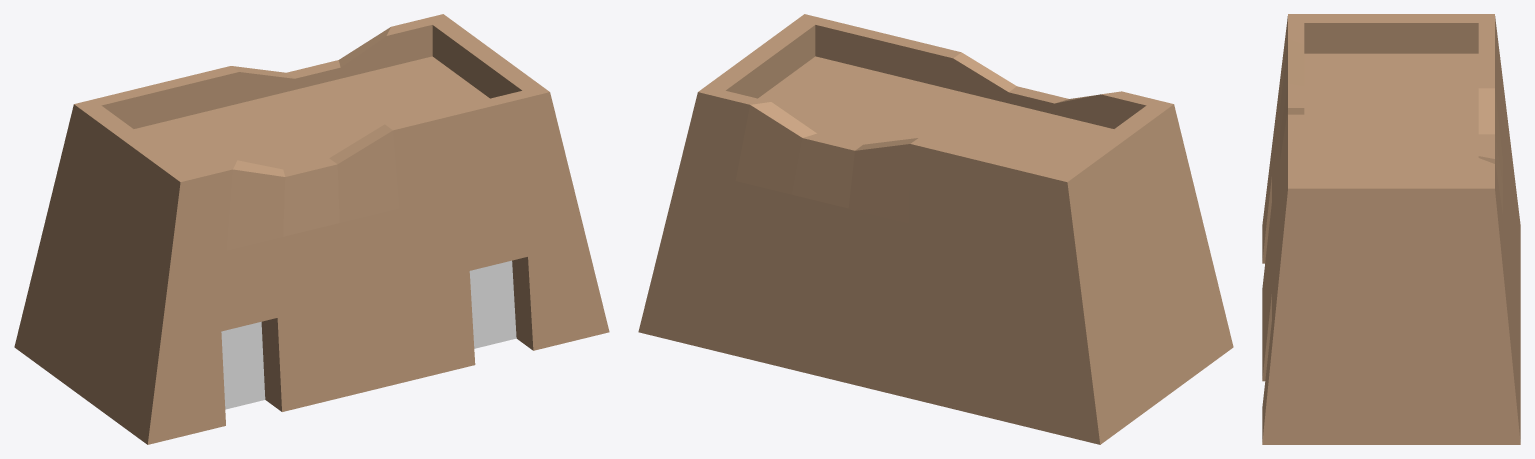
Rendered from HouseBase003Var002.fbx.
The picture shows the model from 3 angles, left to right: view 1: azimuth 30°, elevation 25°; view 2: azimuth 150°, elevation 25°; view 3: azimuth 270°, elevation 25°; orthographic projection. The views are drawn at different scales.
Parts seen in each view (by area): view 1: HouseBase003Var002; view 2: HouseBase003Var002; view 3: HouseBase003Var002.
Part boxes in pixels (<box>): HouseBase003Var002: <box>14,14,609,444</box>; HouseBase003Var002: <box>638,14,1233,444</box>; HouseBase003Var002: <box>1262,14,1520,444</box>.
Bounding box in the file's own units: 1600 × 800 × 800.
